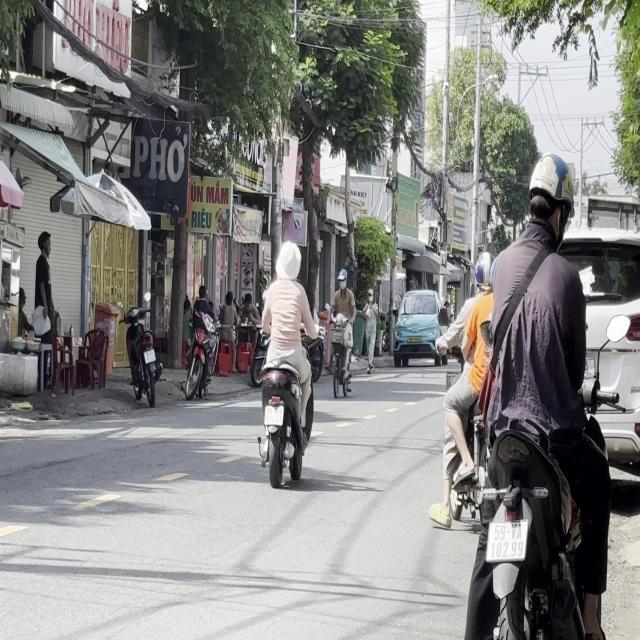helmet: (524, 153, 572, 245)
licenseplate: (458, 149, 622, 634), (254, 238, 317, 486)
motorcyclist: (276, 240, 300, 279)
nohelmet: (486, 520, 527, 560), (264, 405, 284, 425)
